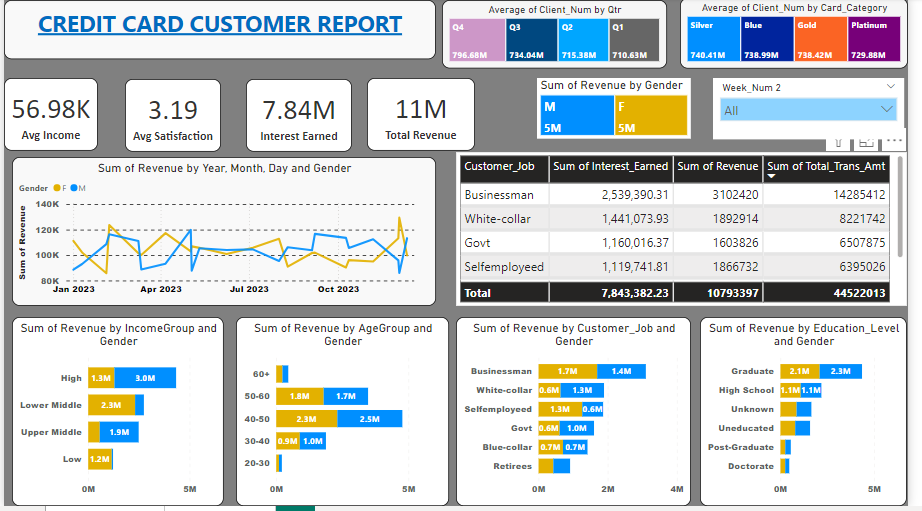

This screenshot's page, from the dashboard's own definition file:
{"tool":"powerbi","page":{"name":"CC Customer","canvas":[1280,720],"ordinal":1},"visuals":[{"type":"textbox","box":[0,2.8,612.3,83.6],"z":0},{"type":"barChart","fields":{"Category":["customer.IncomeGroup"],"Y":["Sum(credit_card.Revenue)"],"Series":["customer.Gender"]},"box":[11.3,452.1,300.5,267.9],"z":1000},{"type":"tableEx","fields":{"Values":["customer.Customer_Job","Sum(credit_card.Interest_Earned)","Sum(credit_card.Revenue)","Sum(credit_card.Total_Trans_Amt)"]},"box":[640.6,218.3,639.2,218.3],"z":2000},{"type":"card","fields":{"Values":["Sum(credit_card.Revenue)"]},"box":[514.5,113.4,153.1,103.5],"z":3000},{"type":"card","fields":{"Values":["Sum(credit_card.Interest_Earned)"]},"box":[343,114.8,150.2,103.5],"z":4000},{"type":"card","fields":{"Values":["Avg(customer.Cust_Satisfaction_Score)"]},"box":[171.5,114.8,136.1,103.5],"z":5000},{"type":"card","fields":{"Values":["Avg(customer.Income)"]},"box":[0,113.4,133.2,103.5],"z":6000},{"type":"slicer","fields":{"Values":["credit_card.Week_Num 2"]},"box":[1005,114.1,271.4,87.1],"z":7000},{"type":"treemap","fields":{"Values":["Avg(credit_card.Client_Num)"],"Details":["credit_card.Qtr"]},"box":[620.8,2.6,318.6,97.1],"z":8000},{"type":"treemap","fields":{"Values":["Avg(credit_card.Client_Num)"],"Group":["credit_card.Card_Category"]},"box":[957.9,-0.2,322.9,100],"z":9000},{"type":"lineChart","fields":{"Series":["customer.Gender"],"Y":["Sum(credit_card.Revenue)"],"Category":["credit_card.Week_Start_Date.Variation.Date Hierarchy.Year","credit_card.Week_Start_Date.Variation.Date Hierarchy.Month","credit_card.Week_Start_Date.Variation.Date Hierarchy.Day"]},"box":[11.3,225.4,600.9,211.2],"z":10000},{"type":"treemap","fields":{"Group":["customer.Gender"],"Values":["Sum(credit_card.Revenue)"]},"box":[755.4,113.4,218.3,86.5],"z":11000},{"type":"barChart","fields":{"Category":["customer.AgeGroup"],"Y":["Sum(credit_card.Revenue)"],"Series":["customer.Gender"]},"box":[328.8,452.1,301.9,267.9],"z":12000},{"type":"barChart","fields":{"Category":["customer.Customer_Job"],"Y":["Sum(credit_card.Revenue)"],"Series":["customer.Gender"]},"box":[640.6,452.1,333.1,267.9],"z":13000},{"type":"barChart","fields":{"Category":["customer.Education_Level"],"Y":["Sum(credit_card.Revenue)"],"Series":["customer.Gender"]},"box":[986.5,452.1,293.4,267.9],"z":14000}]}

Visuals, with their boxes in screenshot pixels (x1, y1, x2, y2), scaled from the page's 1280x720 canvas onto the 922x511 screenshot:
textbox: rect(0, 2, 441, 61)
barChart - customer.IncomeGroup x Sum(credit_card.Revenue): rect(8, 321, 225, 510)
tableEx - customer.Customer_Job x Sum(credit_card.Interest_Earned): rect(461, 155, 921, 310)
card - Sum(credit_card.Revenue): rect(371, 80, 481, 154)
card - Sum(credit_card.Interest_Earned): rect(247, 81, 355, 155)
card - Avg(customer.Cust_Satisfaction_Score): rect(124, 81, 222, 155)
card - Avg(customer.Income): rect(0, 80, 96, 154)
slicer - credit_card.Week_Num 2: rect(724, 81, 919, 143)
treemap - Avg(credit_card.Client_Num) x credit_card.Qtr: rect(447, 2, 677, 71)
treemap - Avg(credit_card.Client_Num) x credit_card.Card_Category: rect(690, 0, 921, 71)
lineChart - customer.Gender x Sum(credit_card.Revenue): rect(8, 160, 441, 310)
treemap - customer.Gender x Sum(credit_card.Revenue): rect(544, 80, 701, 142)
barChart - customer.AgeGroup x Sum(credit_card.Revenue): rect(237, 321, 454, 510)
barChart - customer.Customer_Job x Sum(credit_card.Revenue): rect(461, 321, 701, 510)
barChart - customer.Education_Level x Sum(credit_card.Revenue): rect(711, 321, 921, 510)
